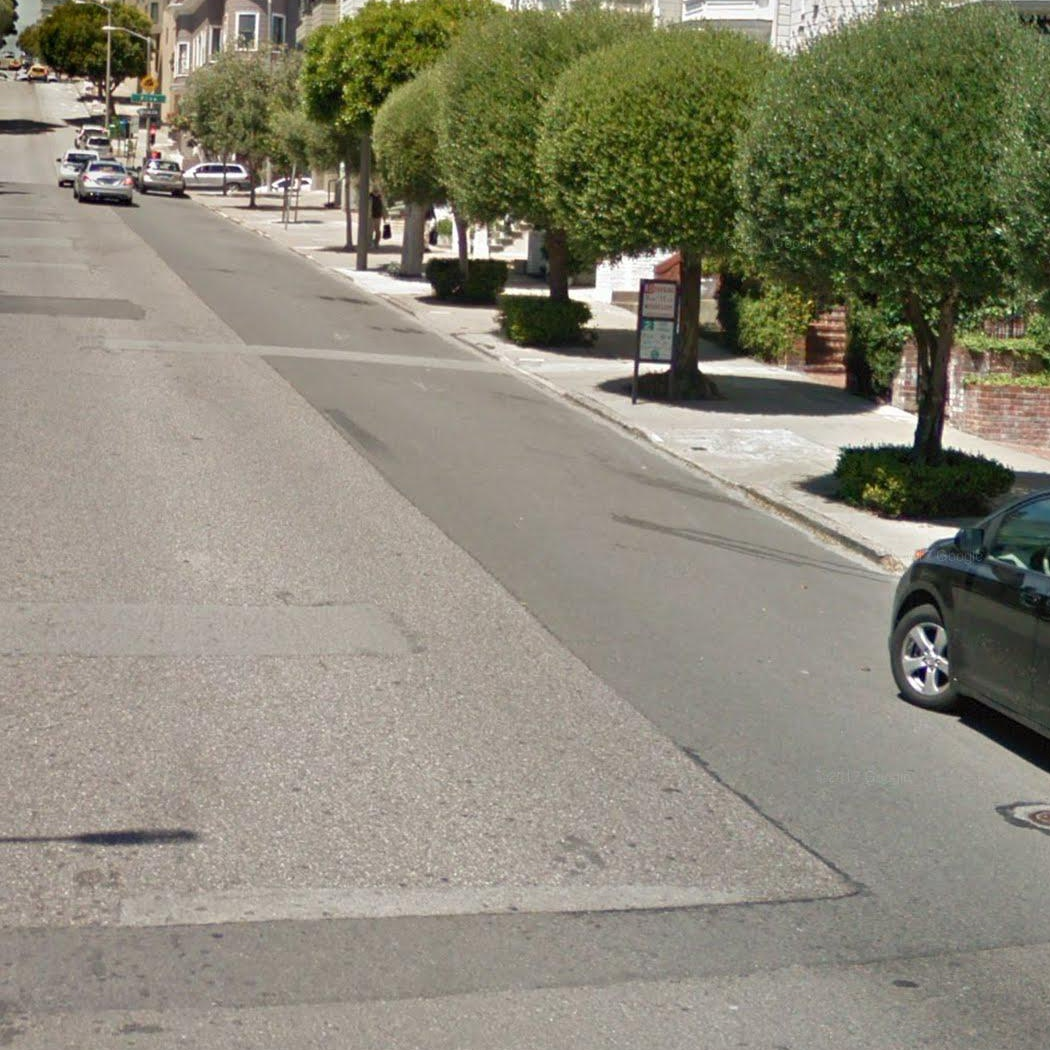2 Hour Parking: (637, 318, 676, 363)
No Parking: (640, 279, 677, 319)
